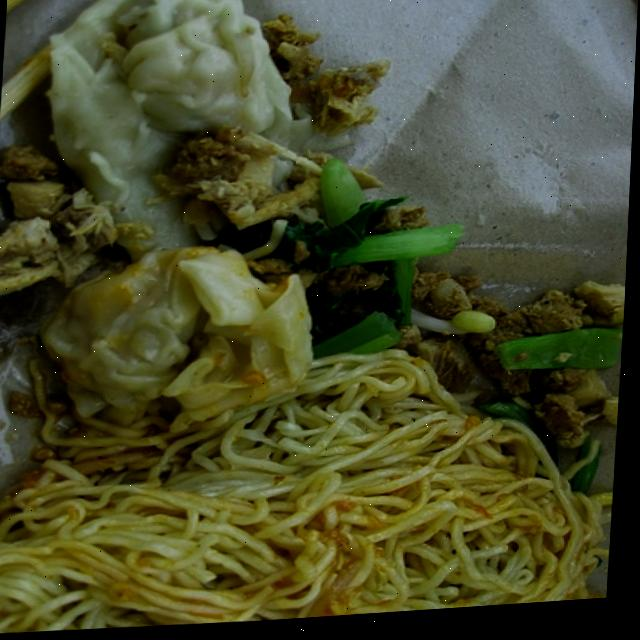面条主食: (7, 5, 631, 638)
